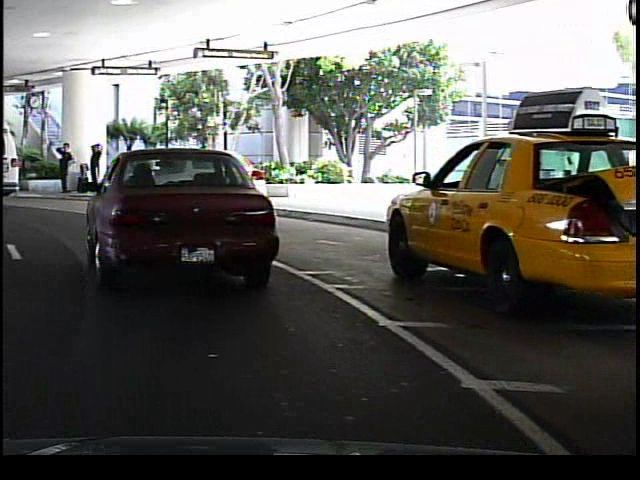person: (138, 143, 165, 196), (50, 140, 72, 198), (84, 140, 103, 191)
